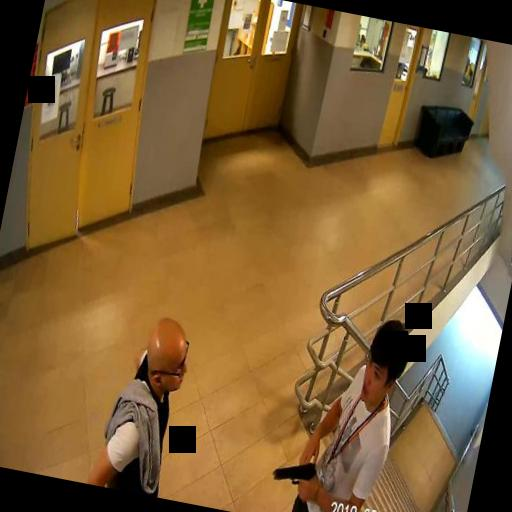Handgun: (268, 454, 316, 502)
